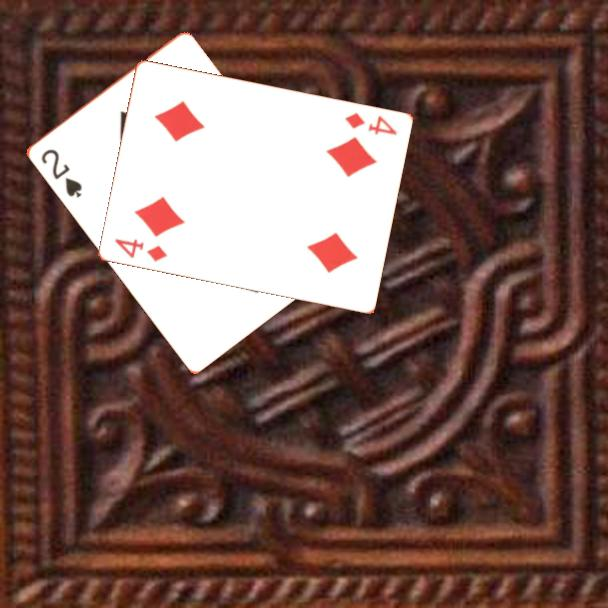d04: (111, 236, 170, 265), (341, 109, 399, 138)
s02: (37, 145, 85, 201)
